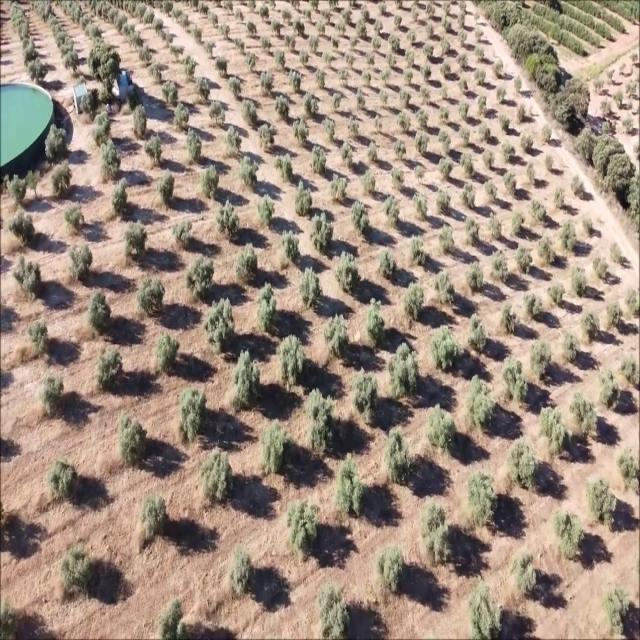trees: (418, 497, 455, 568), (305, 385, 338, 463), (464, 374, 500, 442), (334, 452, 372, 516), (388, 342, 424, 409), (465, 468, 500, 536), (381, 428, 418, 491), (466, 580, 506, 638), (422, 401, 460, 462), (316, 580, 355, 638), (57, 540, 97, 596), (178, 383, 214, 445), (276, 333, 310, 398), (262, 416, 296, 480), (372, 543, 406, 607), (205, 293, 240, 355), (504, 436, 540, 495), (230, 348, 263, 412), (286, 501, 321, 560), (583, 476, 618, 534), (200, 446, 235, 504), (427, 322, 463, 378), (551, 506, 586, 562), (351, 368, 383, 429), (567, 389, 600, 448), (539, 402, 571, 459), (499, 357, 532, 412), (117, 413, 150, 468), (186, 254, 218, 303), (296, 265, 326, 317), (135, 274, 167, 322), (10, 256, 44, 301), (256, 282, 284, 336), (401, 280, 430, 332), (49, 457, 81, 503), (321, 313, 351, 362), (363, 298, 391, 350), (94, 345, 124, 393), (527, 335, 556, 384), (334, 251, 364, 298), (230, 542, 256, 596), (309, 207, 337, 256), (596, 365, 624, 414), (43, 122, 74, 166), (233, 240, 262, 287), (140, 493, 170, 538), (123, 219, 152, 265), (511, 548, 540, 594), (156, 596, 186, 640), (87, 290, 116, 335), (616, 441, 640, 495), (154, 332, 182, 378), (66, 242, 95, 286), (464, 311, 491, 357), (214, 199, 242, 243), (97, 140, 124, 183), (41, 372, 67, 416), (168, 213, 197, 252), (6, 211, 37, 247), (279, 227, 305, 269), (461, 261, 488, 301), (198, 163, 225, 203), (50, 162, 77, 201), (348, 198, 374, 238), (26, 317, 52, 357), (235, 155, 262, 193), (375, 245, 401, 284), (618, 352, 640, 398), (488, 247, 512, 289), (559, 329, 584, 369), (434, 268, 459, 308), (108, 178, 132, 219), (6, 172, 32, 209), (156, 169, 180, 209), (579, 308, 604, 346), (90, 111, 116, 147), (257, 192, 281, 231), (142, 133, 167, 170), (556, 216, 579, 256), (496, 300, 520, 338), (567, 264, 591, 302), (409, 233, 433, 271), (520, 287, 545, 323), (603, 298, 625, 338), (534, 234, 558, 270), (130, 102, 153, 139), (62, 202, 88, 234), (329, 172, 353, 206), (291, 184, 315, 218), (254, 122, 279, 154), (274, 152, 298, 185), (80, 85, 102, 121), (182, 130, 205, 164), (381, 195, 404, 229), (546, 278, 570, 310), (514, 244, 536, 278), (436, 222, 458, 256), (307, 144, 330, 176), (171, 101, 194, 133), (460, 215, 482, 248), (225, 124, 247, 157), (590, 250, 611, 284), (207, 98, 230, 129), (27, 59, 52, 87), (458, 181, 480, 212), (292, 120, 314, 151), (124, 82, 147, 110), (486, 211, 506, 243), (162, 77, 184, 106), (241, 97, 262, 127), (528, 196, 548, 226), (412, 192, 432, 222), (359, 170, 380, 198), (510, 207, 528, 239), (624, 283, 640, 318), (550, 183, 569, 212), (259, 68, 278, 97), (195, 75, 215, 102), (179, 54, 199, 81), (568, 170, 586, 200), (435, 187, 454, 215), (273, 93, 292, 121), (501, 170, 520, 198), (386, 166, 407, 191), (303, 92, 322, 119), (413, 131, 432, 158), (607, 237, 624, 267), (147, 60, 167, 85), (63, 50, 82, 76), (320, 115, 338, 142), (437, 158, 457, 182), (458, 150, 476, 176), (498, 139, 516, 165), (287, 68, 304, 95), (213, 55, 232, 79), (518, 131, 536, 156), (438, 129, 454, 157), (339, 139, 356, 165), (137, 45, 156, 68), (228, 75, 245, 100), (22, 40, 41, 62), (35, 0, 54, 21), (364, 141, 381, 164), (484, 178, 499, 204), (244, 50, 260, 74), (524, 162, 538, 189), (581, 212, 596, 237), (394, 110, 410, 133), (392, 138, 408, 161), (538, 124, 553, 148), (477, 123, 494, 144), (347, 117, 363, 139), (482, 148, 498, 170), (621, 114, 637, 136), (458, 126, 473, 149), (540, 150, 555, 173), (274, 47, 289, 70), (86, 22, 105, 40), (54, 29, 71, 49), (128, 23, 142, 47), (188, 22, 203, 44), (413, 164, 428, 186), (416, 107, 431, 129), (515, 102, 530, 124), (354, 89, 368, 112), (457, 99, 471, 122), (69, 1, 83, 24), (15, 21, 31, 41), (203, 37, 218, 58), (328, 91, 343, 112), (598, 98, 613, 119), (314, 68, 328, 90), (498, 112, 512, 134), (130, 30, 145, 50), (626, 78, 640, 99), (477, 94, 490, 116), (397, 89, 411, 109), (492, 58, 505, 79), (325, 52, 341, 69), (218, 22, 231, 42), (419, 86, 432, 106), (494, 86, 507, 106), (372, 116, 385, 136), (388, 34, 402, 52), (284, 34, 298, 52), (271, 19, 284, 38), (378, 89, 391, 108), (361, 68, 374, 87), (440, 104, 452, 124), (116, 12, 128, 32), (46, 18, 60, 35), (308, 36, 321, 54), (339, 67, 352, 85), (458, 75, 470, 94), (476, 67, 488, 86), (292, 20, 305, 37), (261, 34, 274, 51), (473, 44, 486, 61), (457, 54, 470, 71), (161, 28, 174, 45), (245, 20, 257, 38), (208, 8, 220, 26), (380, 67, 392, 85), (440, 38, 452, 56), (614, 90, 626, 108), (441, 61, 453, 79), (153, 19, 164, 38), (322, 52, 335, 68), (356, 22, 368, 39), (406, 51, 418, 68), (404, 68, 416, 85), (235, 37, 247, 54), (168, 1, 180, 18), (423, 41, 434, 59), (422, 64, 433, 82), (144, 7, 155, 25), (126, 22, 137, 40), (407, 30, 419, 46), (260, 4, 272, 20), (172, 5, 184, 21), (344, 52, 356, 68), (386, 54, 398, 70), (235, 6, 247, 22), (300, 51, 311, 68), (363, 54, 376, 68), (316, 22, 328, 37), (348, 35, 360, 50), (514, 78, 524, 96), (372, 36, 383, 52), (180, 14, 191, 30), (342, 7, 353, 23), (457, 30, 468, 46), (282, 5, 292, 22), (137, 3, 147, 20), (162, 1, 175, 14), (222, 0, 234, 14), (440, 87, 451, 102), (337, 20, 348, 35), (377, 1, 388, 16), (425, 23, 435, 39), (333, 35, 343, 51), (80, 14, 90, 30), (201, 1, 211, 17), (375, 20, 385, 35), (393, 13, 403, 28), (306, 5, 315, 21), (473, 27, 483, 41), (426, 1, 436, 15), (247, 0, 258, 12), (327, 0, 339, 11), (360, 7, 370, 20), (310, 0, 321, 11), (188, 0, 200, 10), (348, 0, 359, 10)
